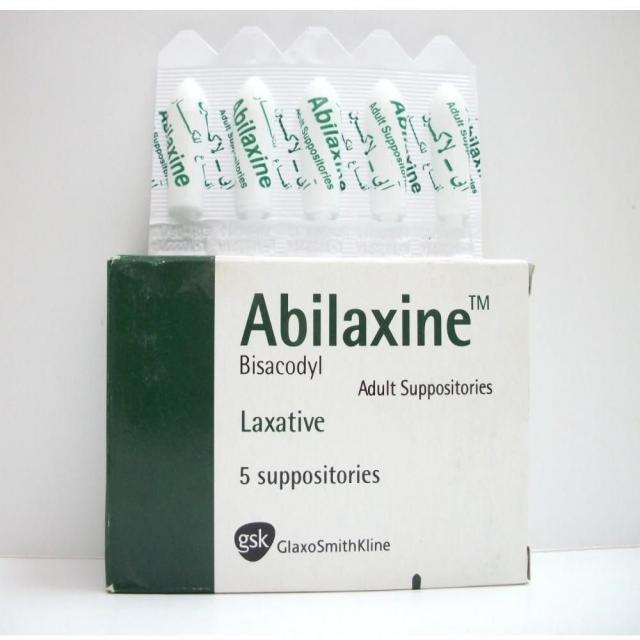drug-name: (237, 289, 473, 349)
